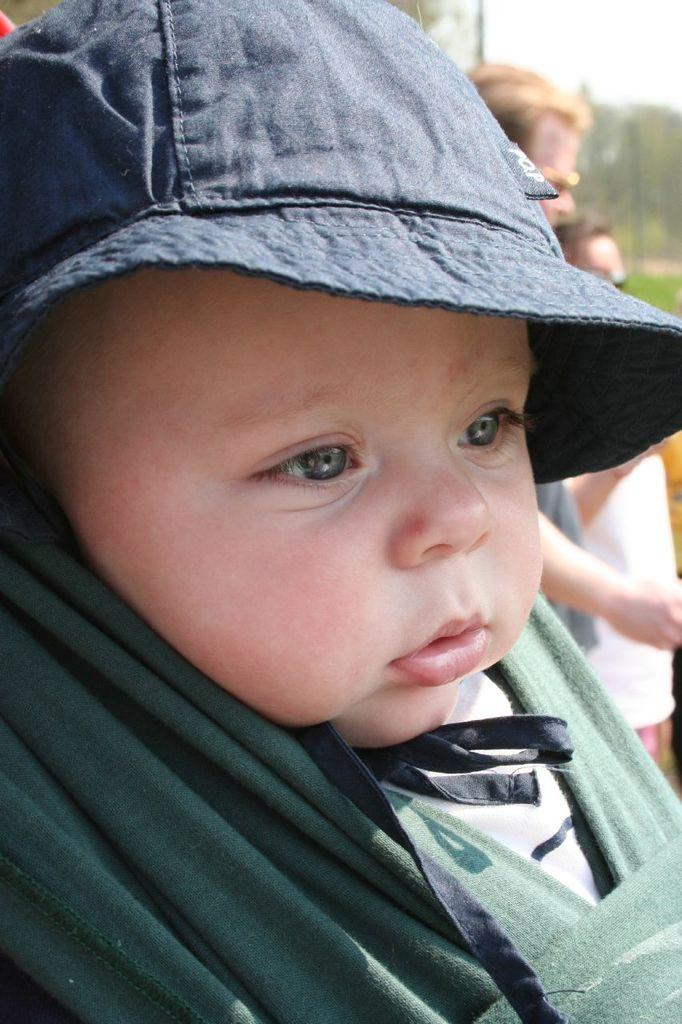Hat: (0, 0, 681, 484)
